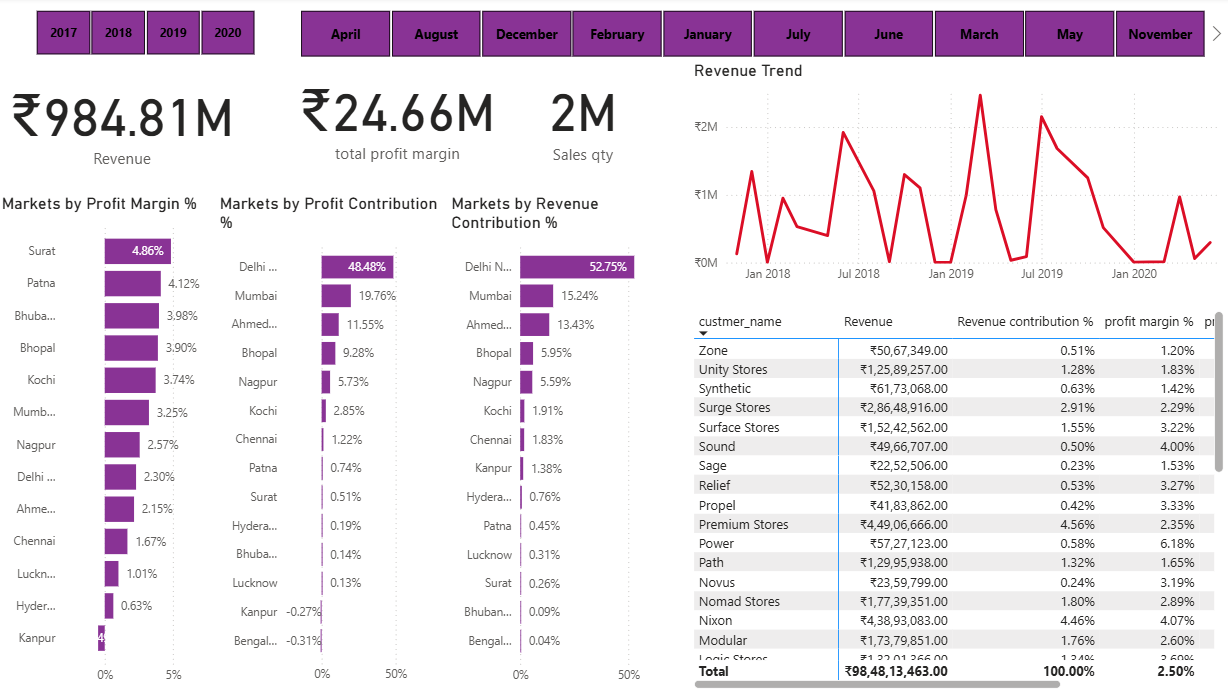

This screenshot's page, from the dashboard's own definition file:
{"tool":"powerbi","page":{"name":"Profit Analysis","canvas":[1280,720],"ordinal":1},"visuals":[{"type":"slicer","fields":{"Values":["sales date.year"]},"box":[14.9,6.6,274.2,59.5],"z":1000},{"type":"slicer","fields":{"Values":["sales date.month_name"]},"box":[289,6.6,982.7,61.1],"z":1500},{"type":"card","fields":{"Values":["measure_table.Revenue"]},"box":[0,77.4,258.9,101.3],"z":2000},{"type":"clusteredBarChart","title":"Markets by Profit Margin %","fields":{"Category":["sales markets.markets_name"],"Y":["measure_table.profit margin %"]},"box":[0,204,225.2,515],"z":3000},{"type":"card","fields":{"Values":["measure_table.Sales qty"]},"box":[509.4,67.5,191.4,111.2],"z":4000},{"type":"barChart","title":"Markets by Profit Contribution %","fields":{"Category":["sales markets.markets_name"],"Y":["measure_table.profit margin contribution %"]},"box":[225.2,204,239.2,515],"z":5000},{"type":"pivotTable","title":"Top 5 customers","fields":{"Rows":["sales customers.custmer_name"],"Values":["measure_table.Revenue","measure_table.Revenue contribution %","measure_table.profit margin %","measure_table.profit margin contribution %"]},"box":[715.2,318.8,556.6,399.7],"z":6000},{"type":"lineChart","title":"Revenue Trend","fields":{"Y":["measure_table.Revenue"],"Category":["sales date.cy_date.Variation.Date Hierarchy.Year"]},"box":[714.9,66.1,555.9,239.2],"z":7000},{"type":"card","fields":{"Values":["measure_table.total profit margin"]},"box":[288.5,67.5,250.5,111.2],"z":8000},{"type":"barChart","title":"Markets by Revenue Contribution %","fields":{"Category":["sales markets.markets_name"],"Y":["measure_table.Revenue contribution %"]},"box":[464.4,204,250.5,515],"z":9000}]}

Visuals, with their boxes in screenshot pixels (x1, y1, x2, y2), scaled from the page's 1280x720 canvas onto the 1228x690 screenshot:
slicer - sales date.year: (14,6,277,63)
slicer - sales date.month_name: (277,6,1220,65)
card - measure_table.Revenue: (0,74,248,171)
"Markets by Profit Margin %" clusteredBarChart: (0,196,216,689)
card - measure_table.Sales qty: (489,65,672,171)
"Markets by Profit Contribution %" barChart: (216,196,446,689)
"Top 5 customers" pivotTable: (686,306,1220,689)
"Revenue Trend" lineChart: (686,63,1219,293)
card - measure_table.total profit margin: (277,65,517,171)
"Markets by Revenue Contribution %" barChart: (446,196,686,689)
